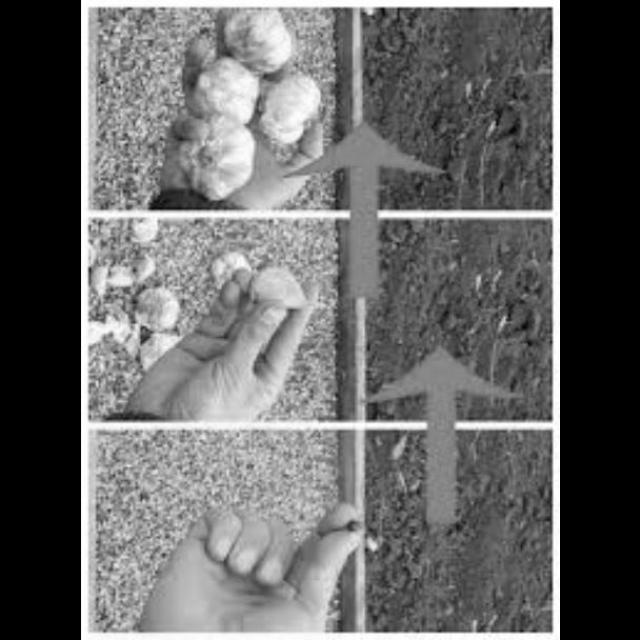garlic: (100, 240, 180, 371), (176, 113, 272, 201), (221, 1, 293, 90), (258, 79, 331, 161), (195, 67, 272, 137), (240, 262, 302, 326)
